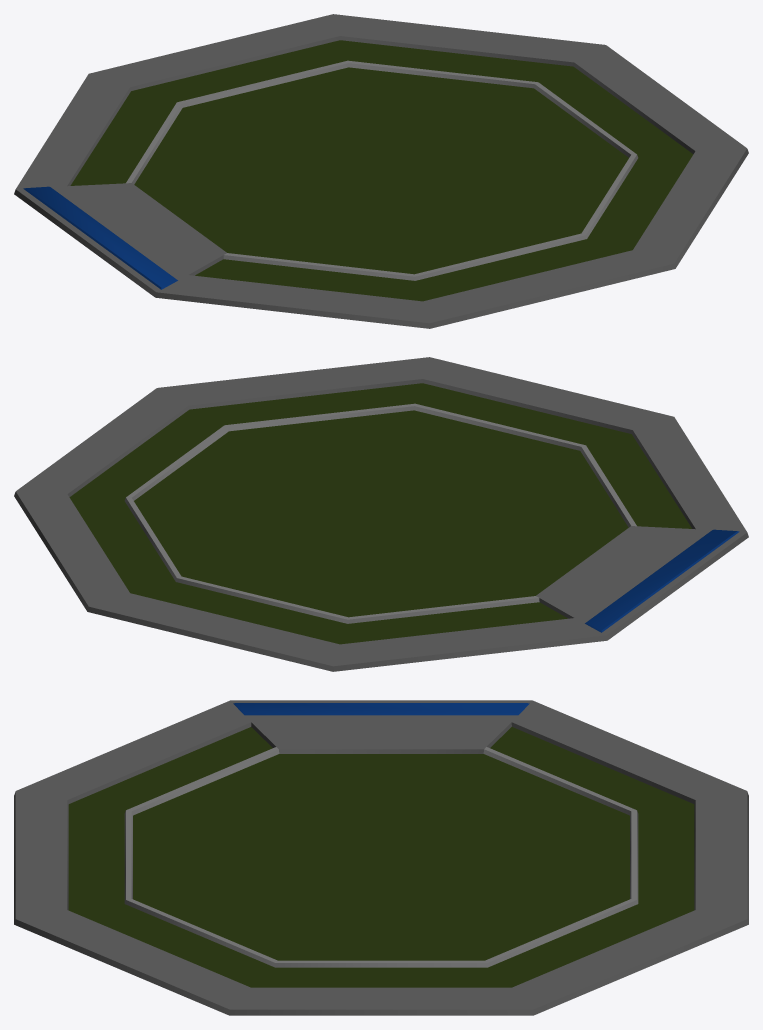
Rendered from W_O_Circle_Bottom_a_L3.fbx.
3 views of the same model, one above another, from view 1: azimuth 30°, elevation 25°; view 2: azimuth 150°, elevation 25°; view 3: azimuth 270°, elevation 25° (orthographic). The views are drawn at different scales.
Visible parts, largest first — view 1: W_O_Circle_Bottom_a_L3; view 2: W_O_Circle_Bottom_a_L3; view 3: W_O_Circle_Bottom_a_L3.
Part boxes in pixels (<box>): W_O_Circle_Bottom_a_L3: <box>14,14,748,328</box>; W_O_Circle_Bottom_a_L3: <box>14,357,748,671</box>; W_O_Circle_Bottom_a_L3: <box>14,700,748,1015</box>.
Size of the model in its own units: 2.03 by 0.02 by 2.03.
